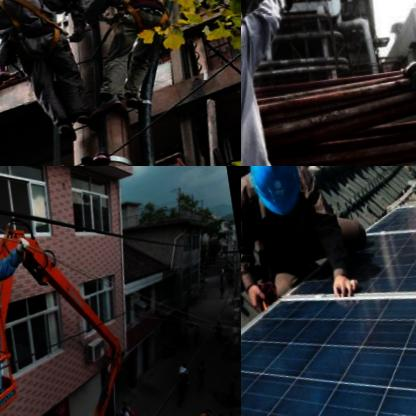helmet: (242, 166, 306, 225)
